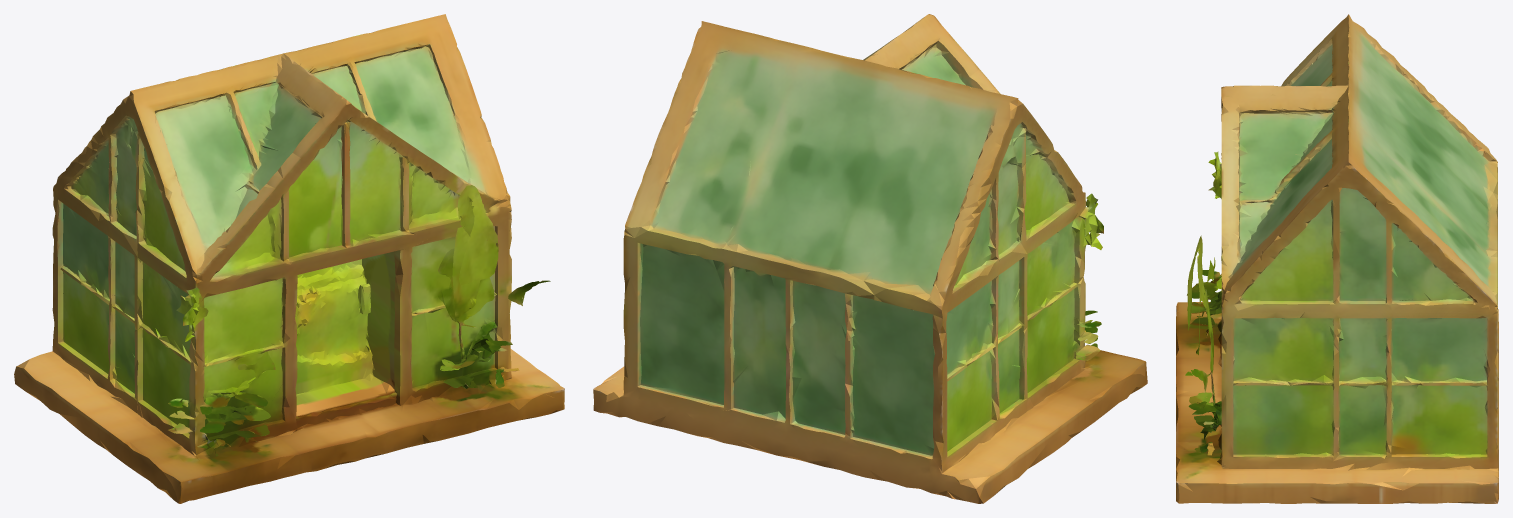
Rendered from garden.glb.
3 renders of one model, left to right at view 1: azimuth 30°, elevation 25°; view 2: azimuth 150°, elevation 25°; view 3: azimuth 270°, elevation 25°, orthographic. The views are drawn at different scales.
Parts seen in each view (by area): view 1: Garden; view 2: Garden; view 3: Garden.
Part boxes in pixels (x1,y1,x2,y2): Garden: (14,14,564,503); Garden: (593,14,1147,503); Garden: (1176,14,1498,503).
Bounding box in the file's own units: 1.87 × 1.57 × 1.4.
Materials: 1 (1 with a texture image).
